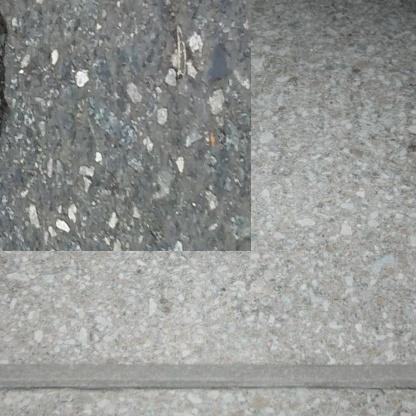Cracks: (0, 0, 8, 203)
